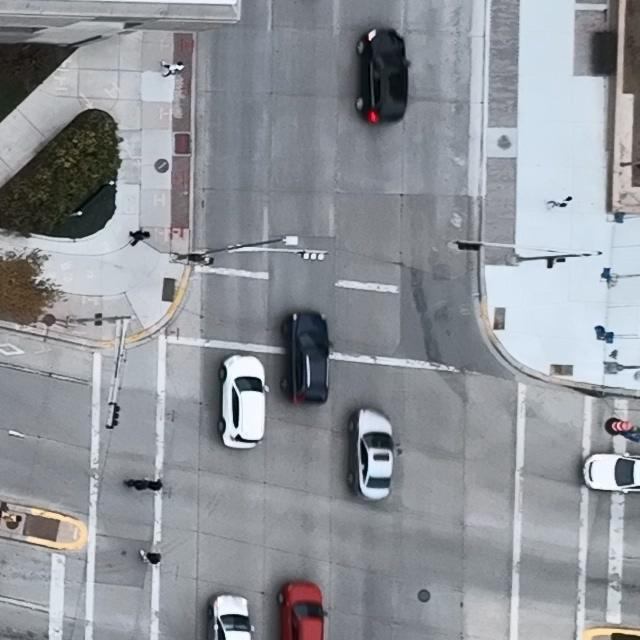car: (354, 28, 410, 125), (281, 310, 334, 404), (217, 354, 269, 449), (347, 408, 395, 501), (277, 580, 329, 640), (581, 453, 640, 494), (207, 593, 255, 640)
